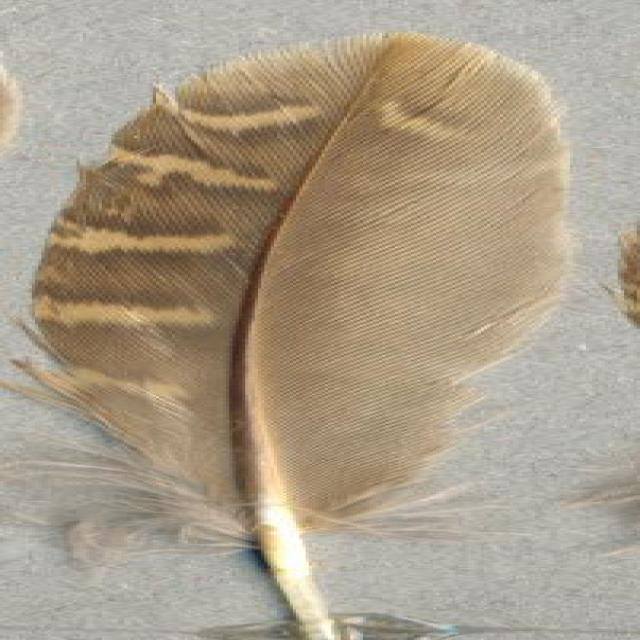feather: (14, 31, 578, 640)
